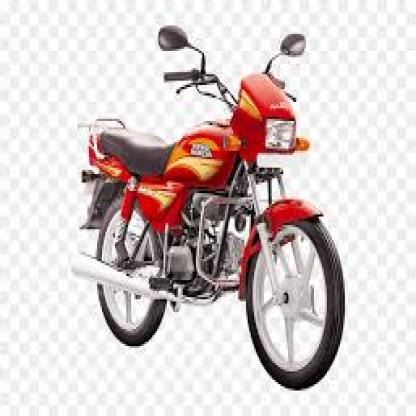bike: (73, 33, 349, 387)
